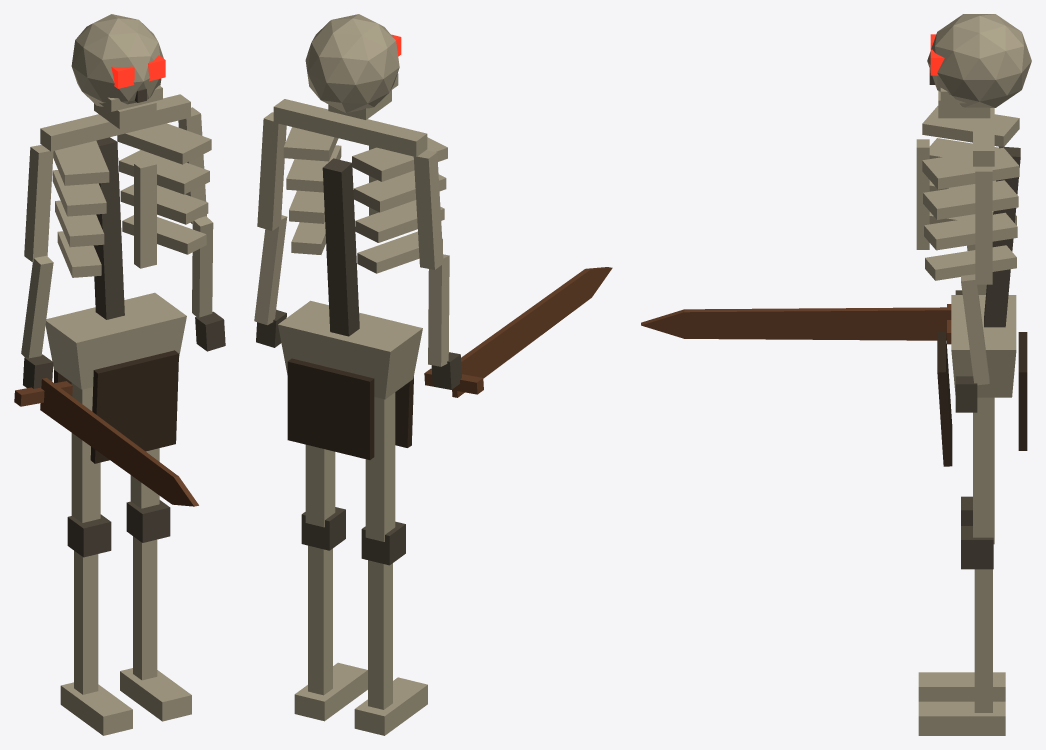
File: enemy_skeleton.glb
The picture shows the model from 3 angles, left to right: view 1: azimuth 30°, elevation 25°; view 2: azimuth 150°, elevation 25°; view 3: azimuth 270°, elevation 25°; orthographic projection.
Parts seen in each view (by area): view 1: Pelvis, Cloth, Skull, SwordBlade, Spine, TibiaR, TibiaL, Clavicle, HumerusR, FemurR, Sternum, FootR (+22 smaller); view 2: Pelvis, ClothBack, Skull, Spine, SwordBlade, Clavicle, FemurR, TibiaR, TibiaL, HumerusR, HumerusL, FootR (+18 smaller); view 3: SwordBlade, Skull, Pelvis, FemurL, FootL, TibiaL, Rib3L, HumerusL, Rib2L, FootR, Rib1L, Spine (+11 smaller).
Part boxes in pixels (left/top/right/bottom): Pelvis: left=45, top=292, right=186, bottom=389; Cloth: left=90, top=350, right=178, bottom=463; Skull: left=71, top=14, right=163, bottom=106; SwordBlade: left=40, top=378, right=198, bottom=506; Spine: left=93, top=137, right=124, bottom=319; TibiaR: left=74, top=551, right=98, bottom=694; TibiaL: left=133, top=536, right=157, bottom=680; Clavicle: left=40, top=94, right=190, bottom=151; HumerusR: left=24, top=145, right=53, bottom=262; FemurR: left=71, top=383, right=100, bottom=522; Sternum: left=134, top=159, right=156, bottom=268; FootR: left=60, top=682, right=132, bottom=735; Pelvis: left=278, top=300, right=422, bottom=399; ClothBack: left=287, top=358, right=374, bottom=459; Skull: left=305, top=14, right=399, bottom=113; Spine: left=322, top=158, right=359, bottom=336; SwordBlade: left=452, top=267, right=612, bottom=397; Clavicle: left=273, top=99, right=427, bottom=156; FemurR: left=365, top=392, right=395, bottom=541; TibiaR: left=368, top=560, right=392, bottom=709; TibiaL: left=308, top=545, right=332, bottom=695; HumerusR: left=413, top=150, right=443, bottom=269; HumerusL: left=257, top=112, right=286, bottom=230; FootR: left=354, top=677, right=427, bottom=735; SwordBlade: left=641, top=307, right=951, bottom=340; Skull: left=927, top=14, right=1031, bottom=107; Pelvis: left=951, top=295, right=1016, bottom=397; FemurL: left=973, top=397, right=994, bottom=544; FootL: left=918, top=701, right=1005, bottom=735; TibiaL: left=974, top=569, right=992, bottom=712; Rib3L: left=922, top=147, right=1019, bottom=189; HumerusL: left=975, top=166, right=992, bottom=284; Rib2L: left=923, top=180, right=1018, bottom=219; FootR: left=918, top=672, right=1005, bottom=701; Rib1L: left=924, top=212, right=1017, bottom=250; Spine: left=984, top=146, right=1020, bottom=327.
Bounding box in the file's own units: 0.5674 × 1.77 × 0.9008.
